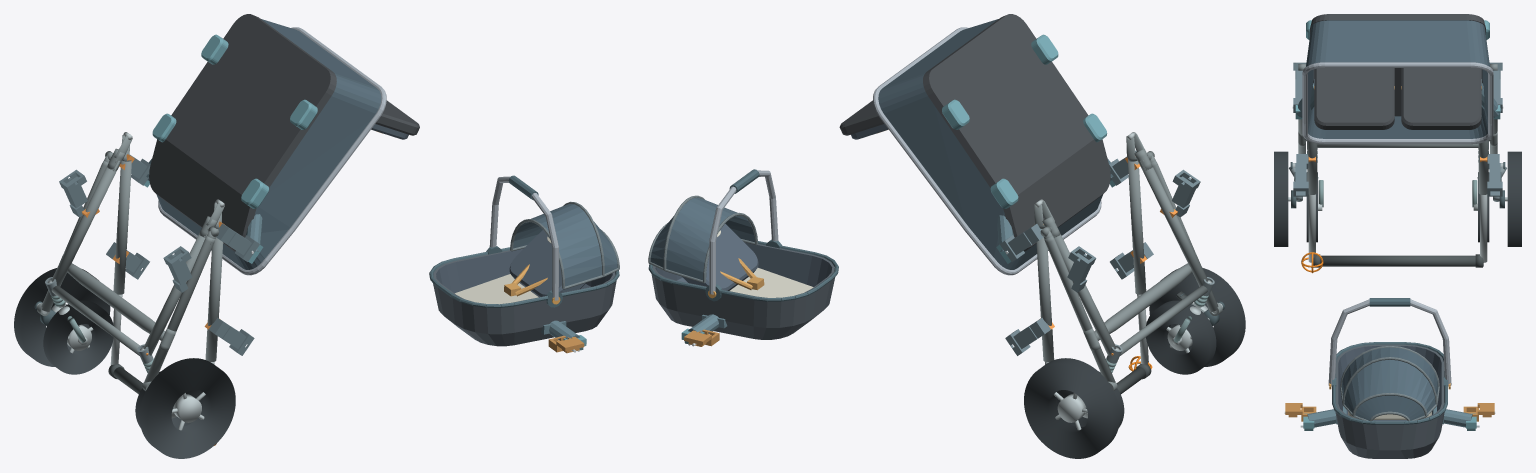
The model's file is D32_w650_state3_wheel_M.glb.
3 views of the same model, side by side, from view 1: azimuth 30°, elevation 25°; view 2: azimuth 150°, elevation 25°; view 3: azimuth 270°, elevation 25° (orthographic). The views are drawn at different scales.
Visible parts, largest first — view 1: D32_Lower, D32_Upper, RL_tire.011, FR_tire.011, RR_tire.011, main_upper_1.012, main_lower_1.012, V46_rearbar.011, V46_rear_leg_-1.011, main_upper_-1.012, main_lower_-1.012, front_fixed_round_tube.011 (+5 smaller); view 2: D32_Lower, D32_Upper, RR_tire.011, FL_tire.011, RL_tire.011, main_upper_-1.012, main_lower_-1.012, V46_rearbar.011, V46_rear_leg_1.011, main_upper_1.012, main_lower_1.012, front_fixed_round_tube.011 (+5 smaller); view 3: D32_Lower, D32_Upper, round_handle.013, RL_tire.011, RR_tire.011, D32_Upper_Mount_H, front_fixed_round_tube.011, Universal_Cabin_Receiver_H_1, Universal_Cabin_Receiver_H_-1, main_upper_1.012, main_upper_-1.012, handle_slider_1.013 (+8 smaller).
Boxes of the visible parts, <box> form: D32_Lower: <box>149,14,419,275</box>; D32_Upper: <box>429,175,619,346</box>; RL_tire.011: <box>139,358,235,458</box>; FR_tire.011: <box>43,300,113,374</box>; RR_tire.011: <box>14,268,110,366</box>; main_upper_1.012: <box>113,160,131,294</box>; main_lower_1.012: <box>51,160,119,286</box>; V46_rearbar.011: <box>67,263,165,340</box>; V46_rear_leg_-1.011: <box>144,236,215,382</box>; main_upper_-1.012: <box>205,229,223,361</box>; main_lower_-1.012: <box>143,234,207,355</box>; front_fixed_round_tube.011: <box>51,285,139,355</box>; D32_Lower: <box>839,14,1110,275</box>; D32_Upper: <box>648,169,838,339</box>; RR_tire.011: <box>1024,358,1119,458</box>; FL_tire.011: <box>1146,300,1216,374</box>; RL_tire.011: <box>1149,268,1245,366</box>; main_upper_-1.012: <box>1128,160,1146,294</box>; main_lower_-1.012: <box>1139,160,1208,286</box>; V46_rearbar.011: <box>1094,263,1192,340</box>; V46_rear_leg_1.011: <box>1044,236,1115,382</box>; main_upper_1.012: <box>1036,229,1054,361</box>; main_lower_1.012: <box>1051,233,1116,355</box>; front_fixed_round_tube.011: <box>1119,285,1207,355</box>; D32_Lower: <box>1302,14,1493,144</box>; D32_Upper: <box>1328,298,1451,458</box>; round_handle.013: <box>1320,255,1483,266</box>; RL_tire.011: <box>1274,151,1288,246</box>; RR_tire.011: <box>1507,151,1521,246</box>; D32_Upper_Mount_H: <box>1300,406,1479,430</box>; front_fixed_round_tube.011: <box>1317,143,1478,147</box>; Universal_Cabin_Receiver_H_1: <box>1487,154,1502,196</box>; Universal_Cabin_Receiver_H_-1: <box>1293,154,1308,196</box>; main_upper_1.012: <box>1478,140,1488,194</box>; main_upper_-1.012: <box>1307,140,1317,194</box>; handle_slider_1.013: <box>1480,194,1487,262</box>.
Size of the model in its own units: 1.76 by 1.1 by 0.781.
